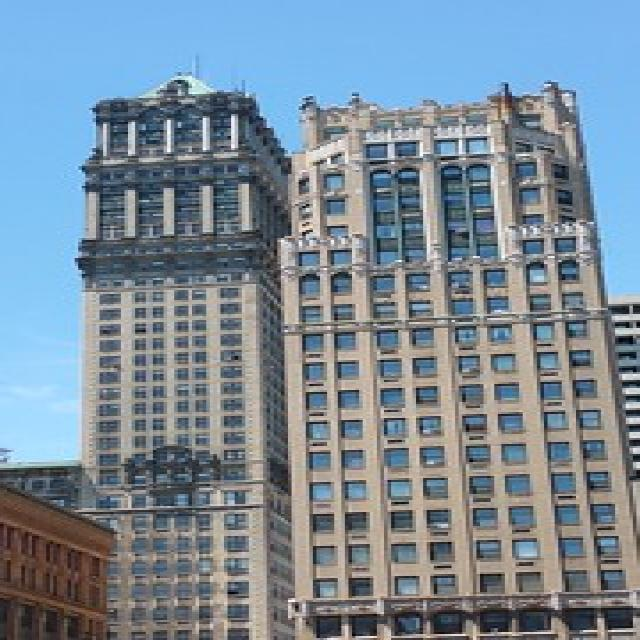Normal_building: (281, 82, 640, 640), (62, 70, 308, 640)
